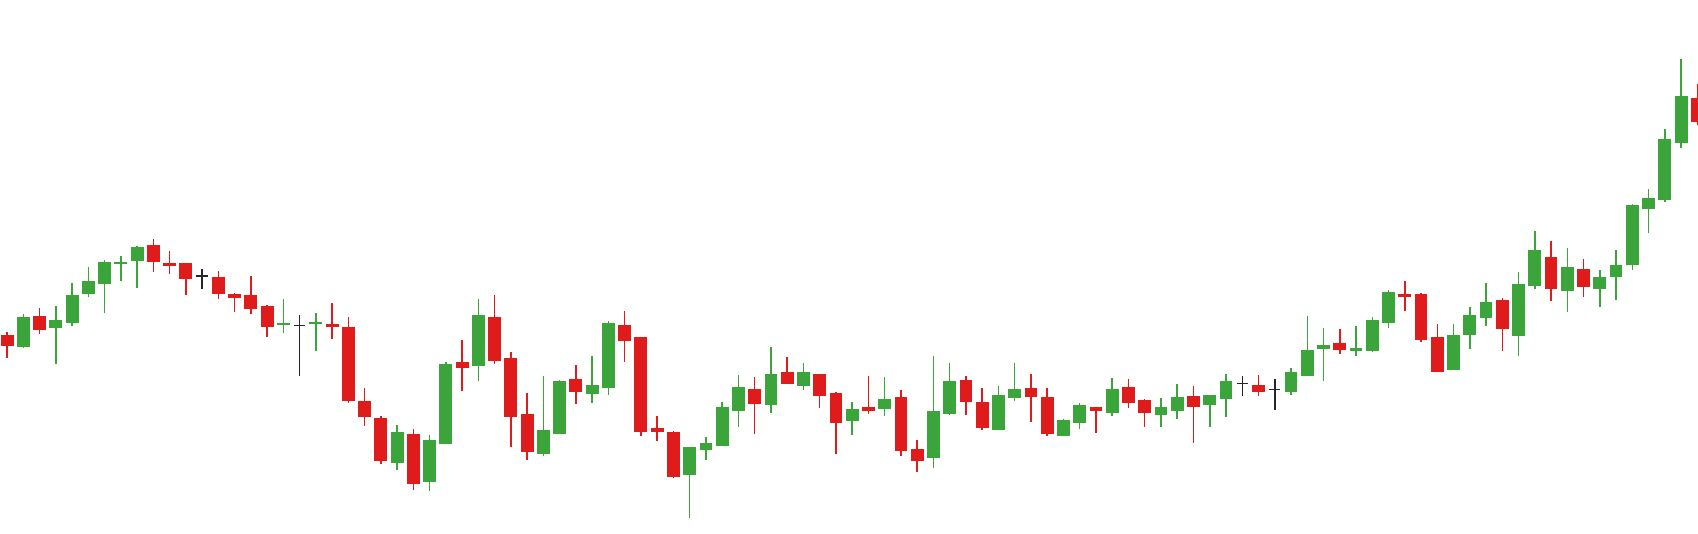buy: (406, 389, 698, 517), (831, 399, 944, 471), (1331, 314, 1460, 378)
